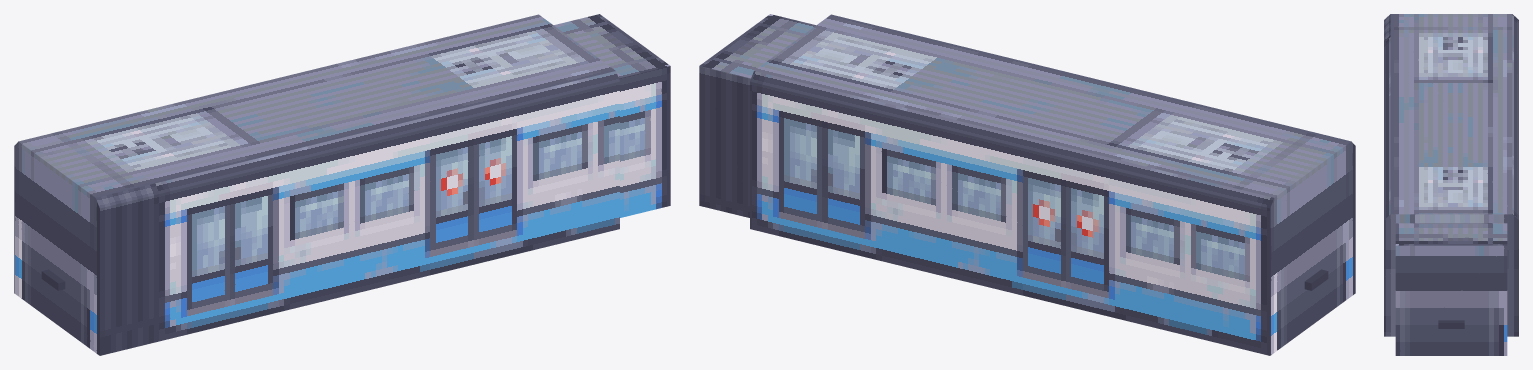
File: blue-middle-v3.glb
3 views of the same model, side by side, from view 1: azimuth 30°, elevation 25°; view 2: azimuth 150°, elevation 25°; view 3: azimuth 270°, elevation 25° (orthographic). The views are drawn at different scales.
Parts seen in each view (by area): view 1: Skirt-west, Roof, Bellows-body-2, Negative-end-upper, Roof-shoulder-west, Negative-end-lower, Bellows-body-0; view 2: Skirt-east, Roof, Bellows-body-3, Negative-end-upper, Roof-shoulder-east, Negative-end-lower, Bellows-body-0; view 3: Roof, Bellows-body-5, Bellows-body-0, Positive-end-upper, Positive-end-lower, Roof-shoulder-east, Roof-shoulder-west, Coupler-head-positive, Positive-end-corner-1, Positive-end-corner--1.
Part boxes in pixels (x1=…): Skirt-west: x1=100, y1=81, x2=619, y2=355; Roof: x1=19, y1=14, x2=615, y2=197; Bellows-body-2: x1=619, y1=66, x2=670, y2=217; Negative-end-upper: x1=14, y1=141, x2=99, y2=279; Roof-shoulder-west: x1=96, y1=71, x2=619, y2=208; Negative-end-lower: x1=14, y1=218, x2=99, y2=355; Bellows-body-0: x1=554, y1=14, x2=670, y2=78; Skirt-east: x1=750, y1=81, x2=1269, y2=355; Roof: x1=754, y1=14, x2=1350, y2=197; Bellows-body-3: x1=699, y1=66, x2=750, y2=217; Negative-end-upper: x1=1270, y1=141, x2=1355, y2=279; Roof-shoulder-east: x1=750, y1=71, x2=1273, y2=208; Negative-end-lower: x1=1270, y1=218, x2=1355, y2=355; Bellows-body-0: x1=699, y1=14, x2=815, y2=78; Roof: x1=1390, y1=14, x2=1512, y2=214; Bellows-body-5: x1=1395, y1=245, x2=1507, y2=355; Bellows-body-0: x1=1395, y1=223, x2=1507, y2=245; Positive-end-upper: x1=1384, y1=214, x2=1518, y2=276; Positive-end-lower: x1=1384, y1=277, x2=1518, y2=336; Roof-shoulder-east: x1=1512, y1=14, x2=1518, y2=219; Roof-shoulder-west: x1=1384, y1=14, x2=1390, y2=219; Coupler-head-positive: x1=1438, y1=320, x2=1464, y2=328; Positive-end-corner-1: x1=1512, y1=214, x2=1518, y2=274; Positive-end-corner--1: x1=1384, y1=214, x2=1390, y2=274.
Bounding box in the file's own units: 164 × 44 × 41.
1 material, 1 textured.
